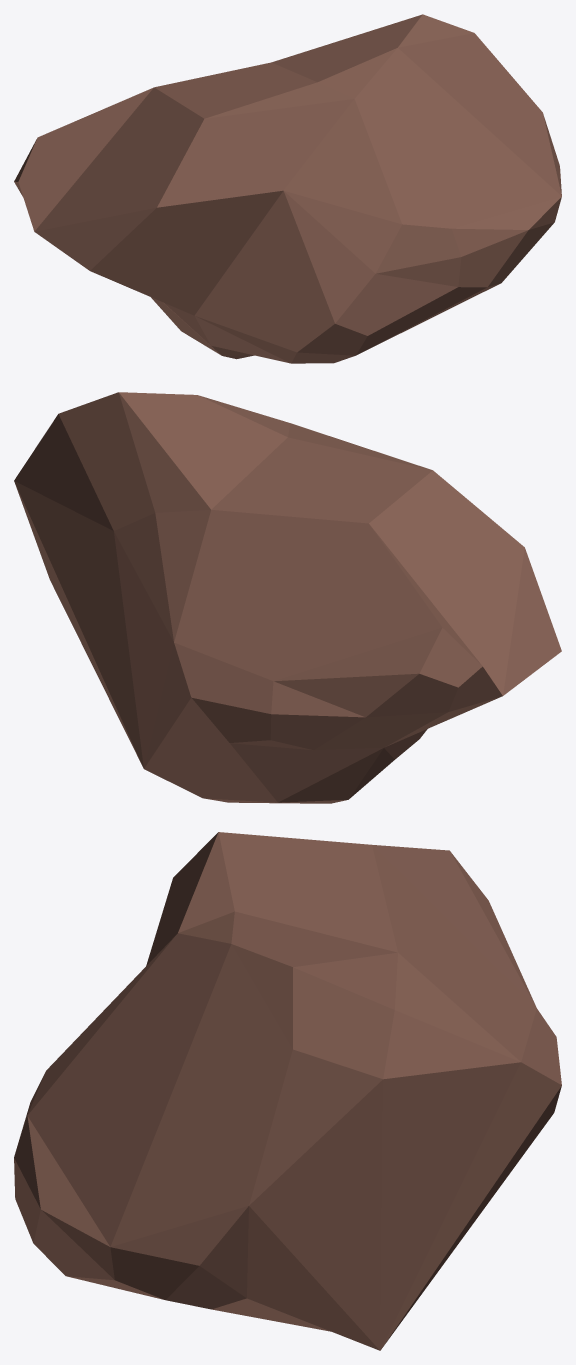
The model's file is MonsterDenRock2.fbx.
The picture shows the model from 3 angles, top to bottom: view 1: azimuth 30°, elevation 25°; view 2: azimuth 150°, elevation 25°; view 3: azimuth 270°, elevation 25°; orthographic projection. The views are drawn at different scales.
Visible parts, largest first — view 1: Rock.013; view 2: Rock.013; view 3: Rock.013.
Part boxes in pixels (x1,y1,x2,y2): Rock.013: (14, 14, 561, 363); Rock.013: (14, 392, 561, 803); Rock.013: (14, 832, 561, 1350).
Bounding box in the file's own units: 586 × 365 × 411.
